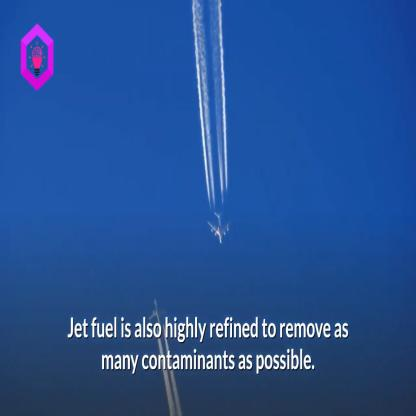plane: (206, 206, 235, 247), (142, 289, 169, 329)
